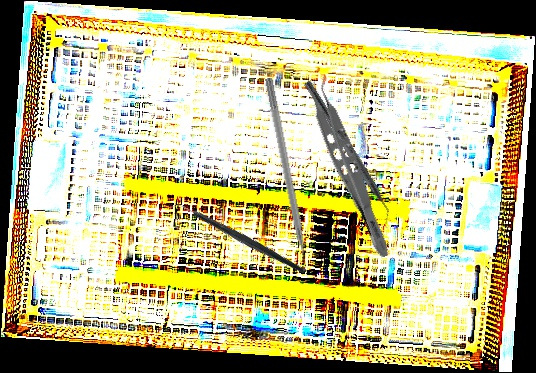Chopper: (166, 165, 308, 313), (294, 79, 401, 230)
Pusher: (262, 77, 312, 280)
Tissue Forceps: (298, 73, 406, 261)
